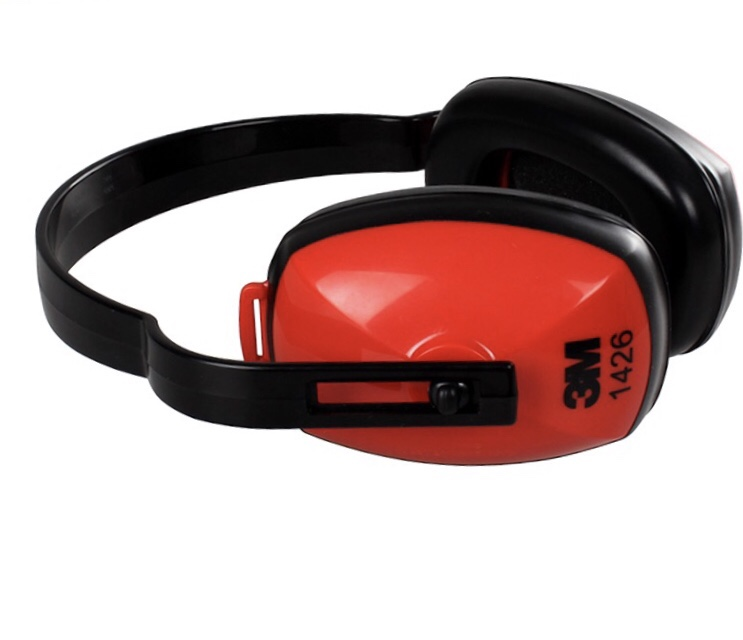3M: (561, 332, 606, 419)
